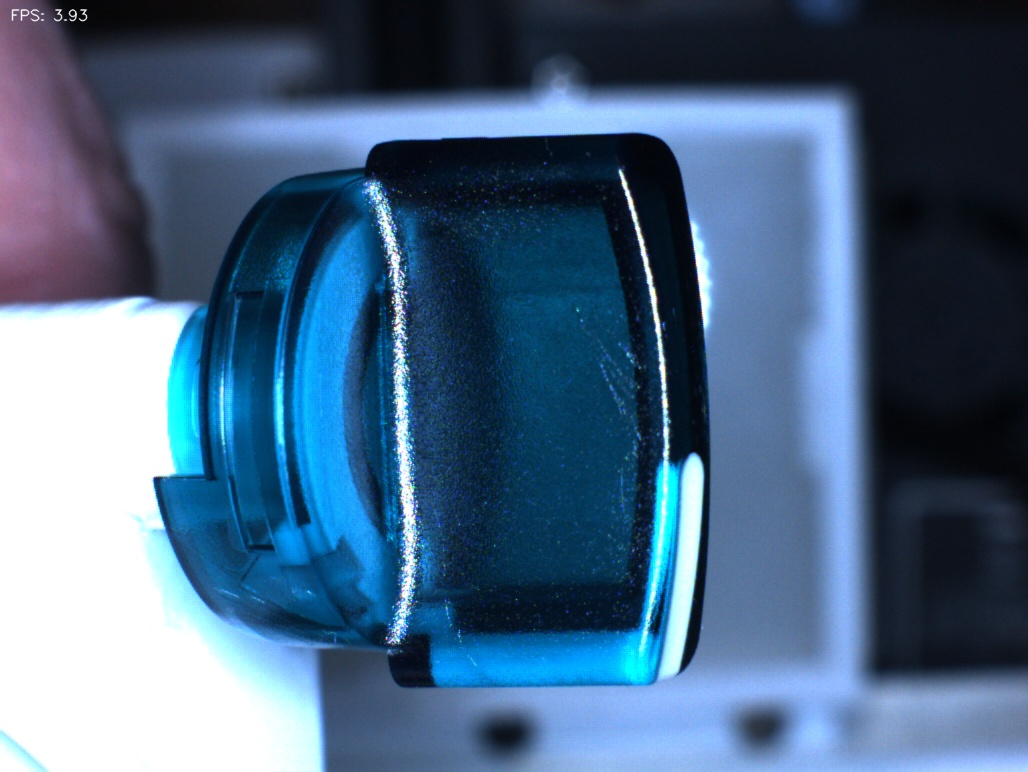Givrage: (558, 292, 654, 511)
